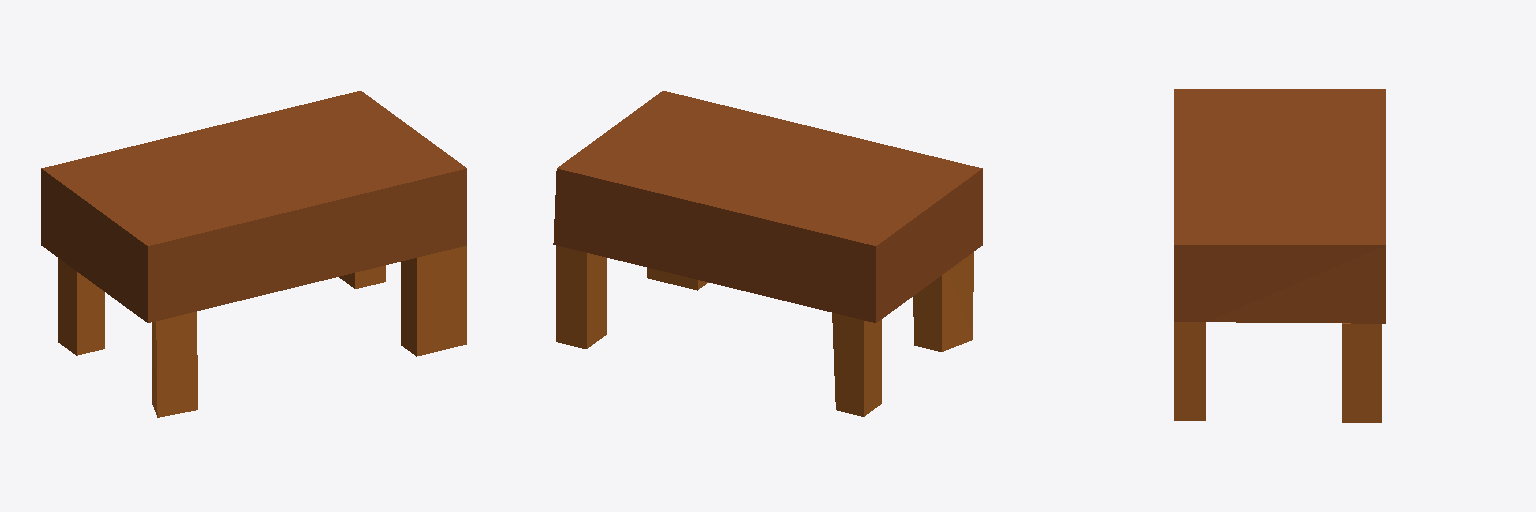
The model's file is Mesa3.obj.
3 renders of one model, left to right at view 1: azimuth 30°, elevation 25°; view 2: azimuth 150°, elevation 25°; view 3: azimuth 270°, elevation 25°, orthographic.
Parts seen in each view (by area): view 1: Table; view 2: Table; view 3: Table.
Boxes of the visible parts, x1,y1,x2,y2 form: Table: [41, 91, 466, 417]; Table: [553, 91, 982, 416]; Table: [1174, 89, 1385, 422].
Bounding box in the file's own units: 24.81 × 12.92 × 14.17.